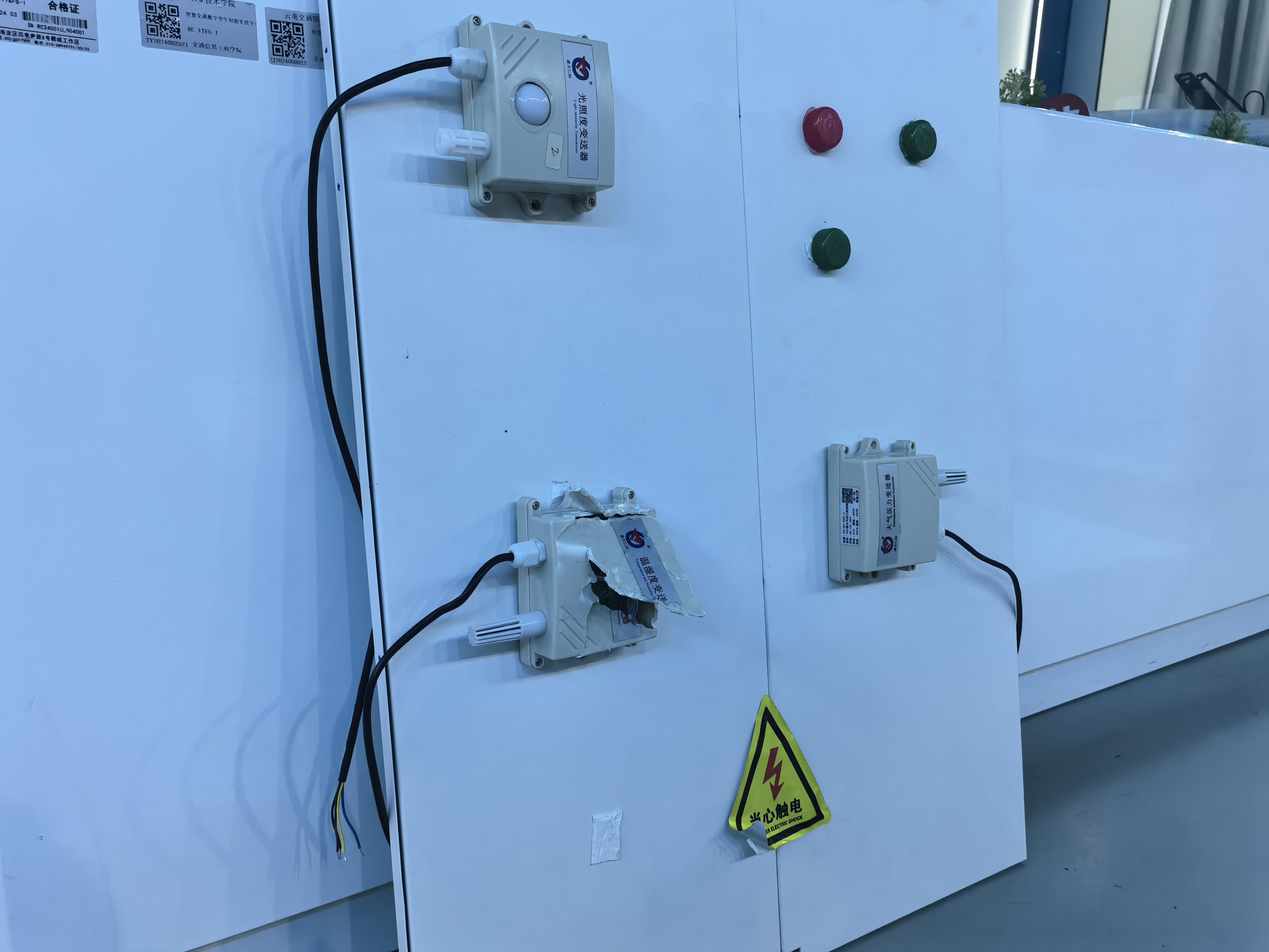red_warning: (792, 91, 858, 169)
sensor_damage: (449, 453, 744, 708)
